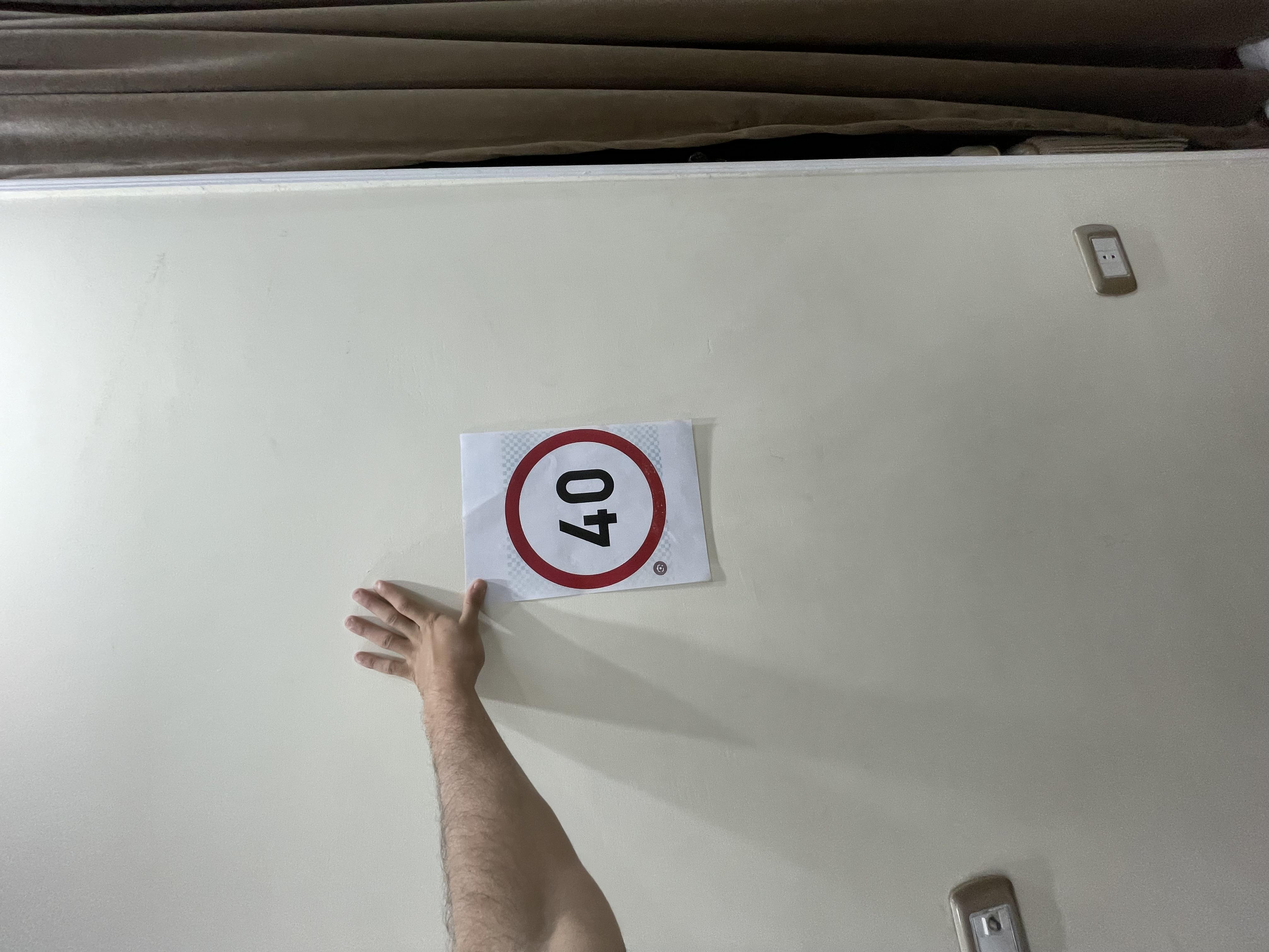40-Speed: (483, 375, 705, 504)
